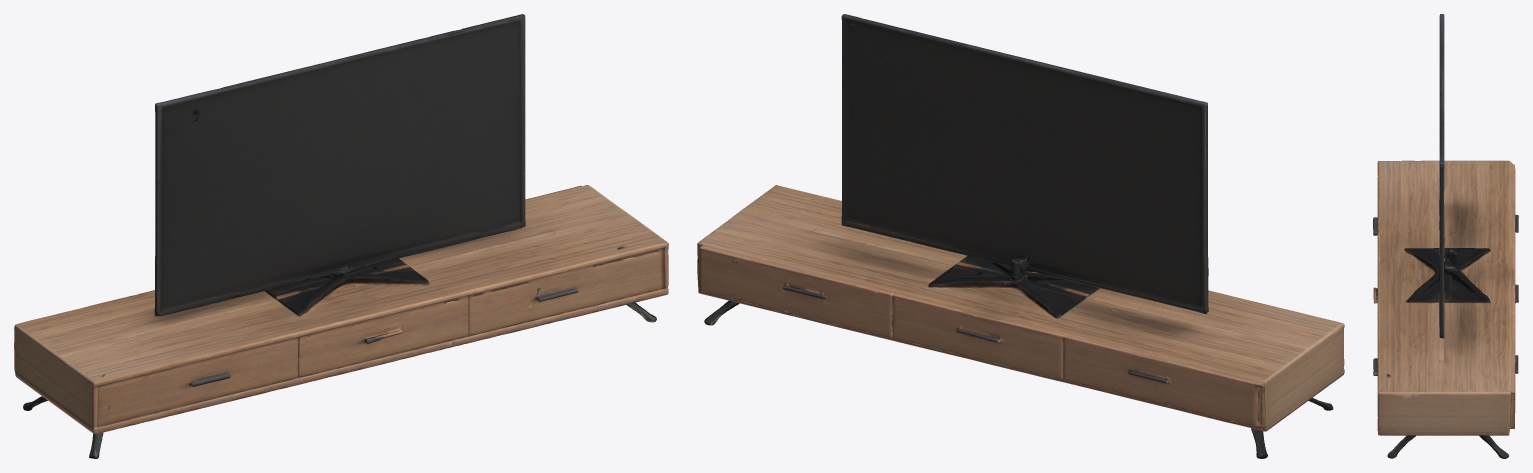
Rendered from a_Tv_with_a_stand_in__0724165705_texture.fbx.
3 renders of one model, left to right at view 1: azimuth 30°, elevation 25°; view 2: azimuth 150°, elevation 25°; view 3: azimuth 270°, elevation 25°, orthographic. The views are drawn at different scales.
Visible parts, largest first — view 1: input; view 2: input; view 3: input.
Part boxes in pixels (<box>): input: <box>14,14,668,458</box>; input: <box>697,14,1344,458</box>; input: <box>1373,14,1518,458</box>.
Size of the model in its own units: 200 by 103 by 53.07.
Materials: 1 (1 with a texture image).
